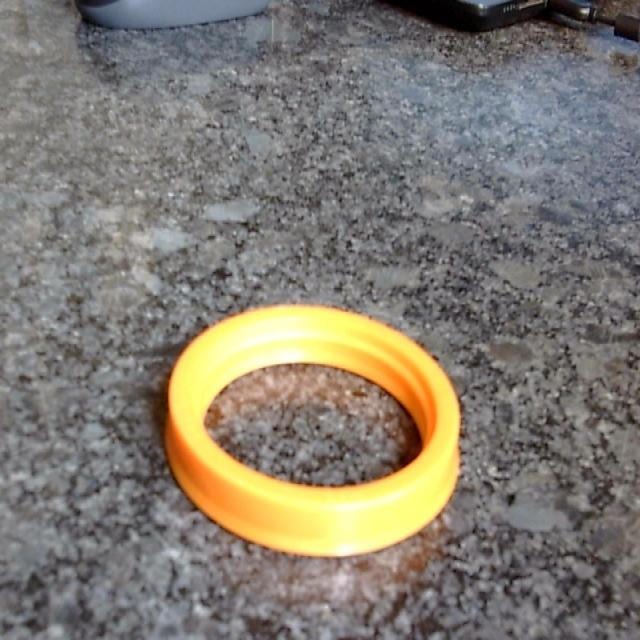orange-L-ring: (165, 305, 460, 557)
